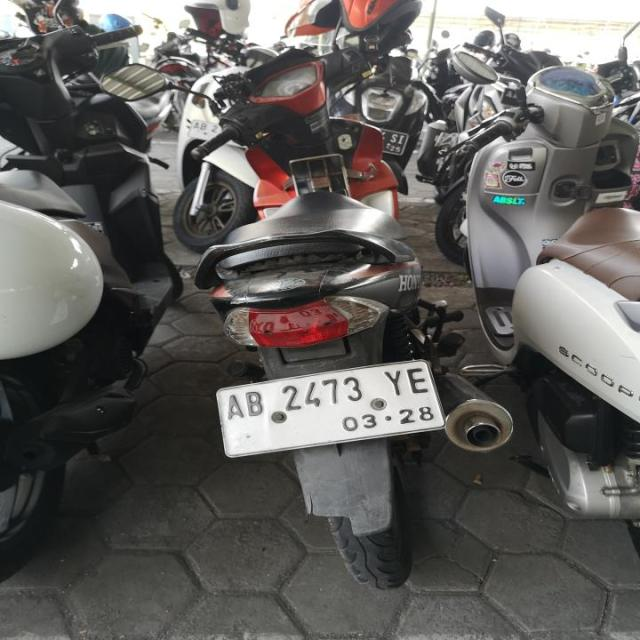License Plate: (214, 356, 448, 460)
